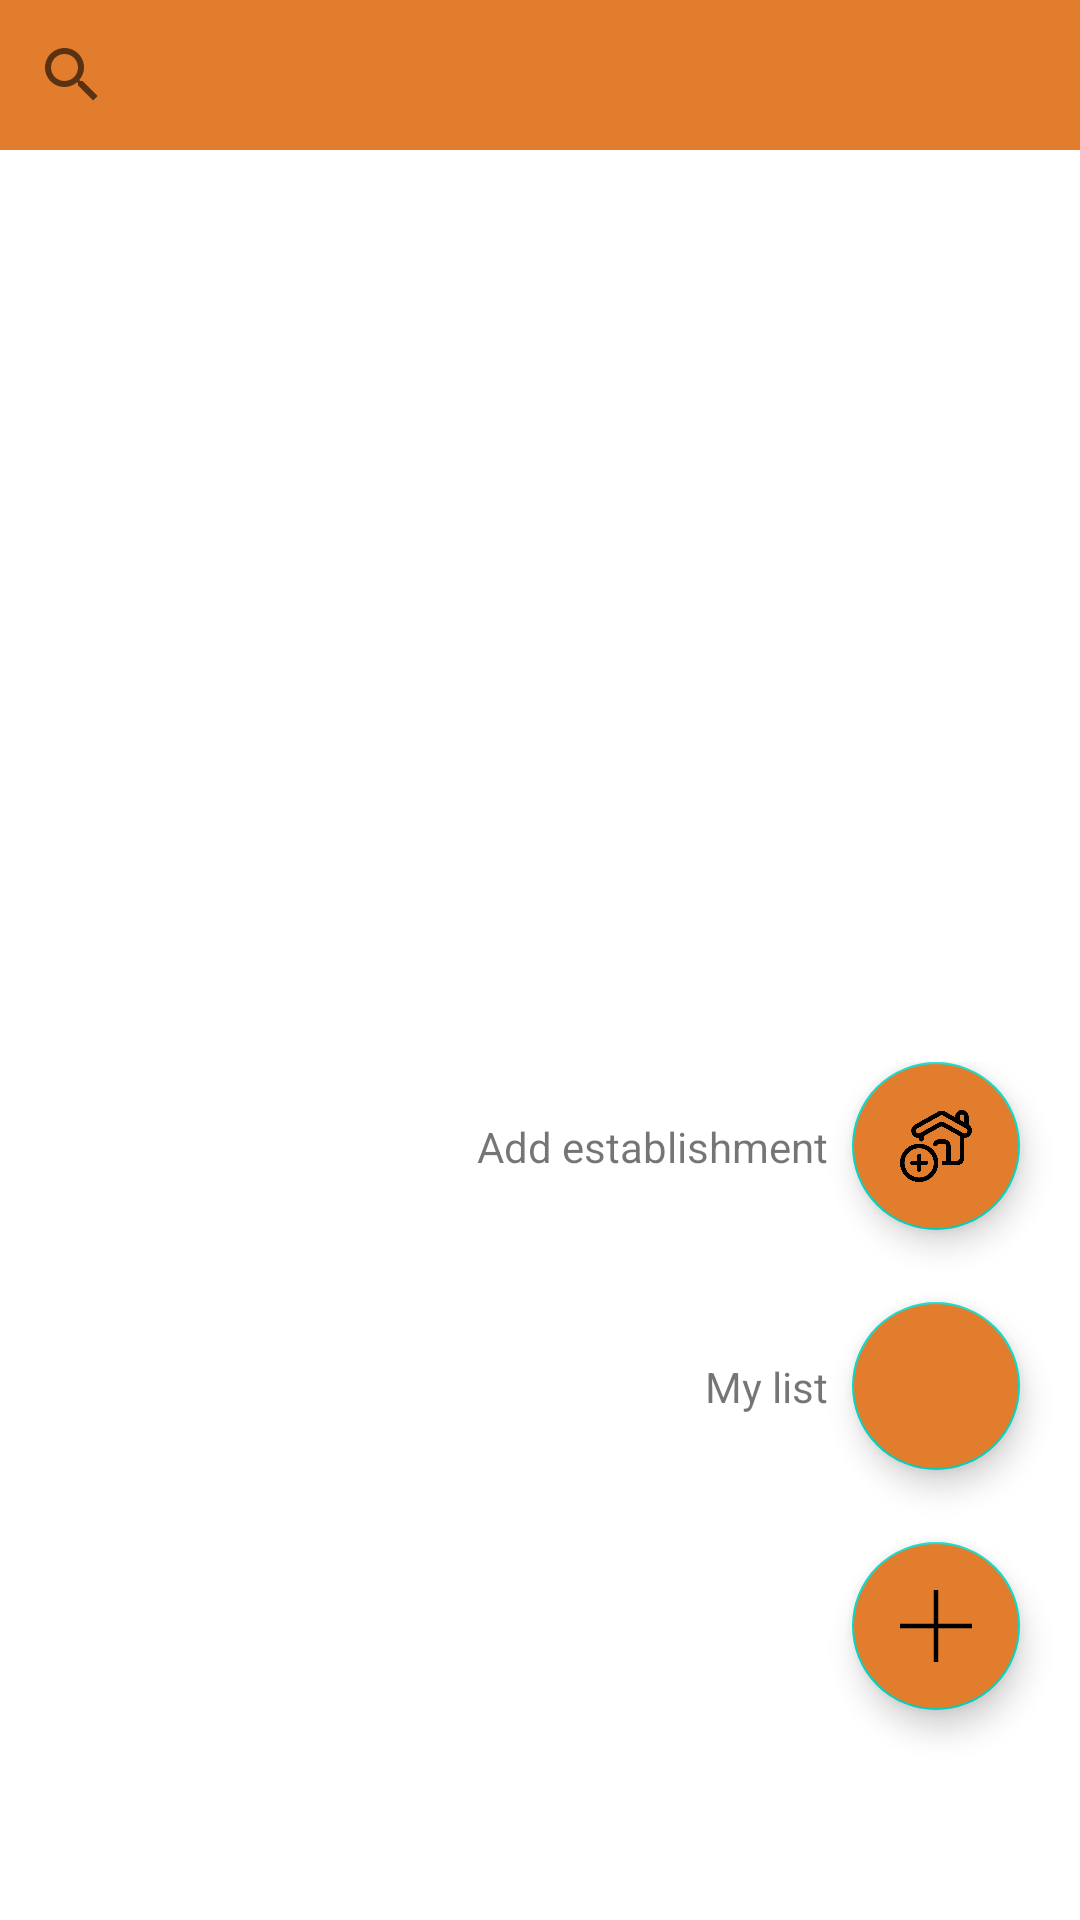

Named icons in this screenshot (1080px x 1920px) and their centers, point (x, y):
add: point (936, 1626)
house: point (936, 1146)
